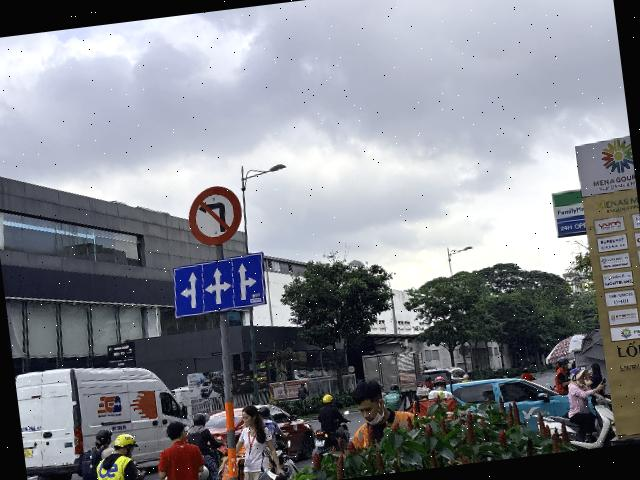cam-re-trai: (184, 183, 246, 249)
